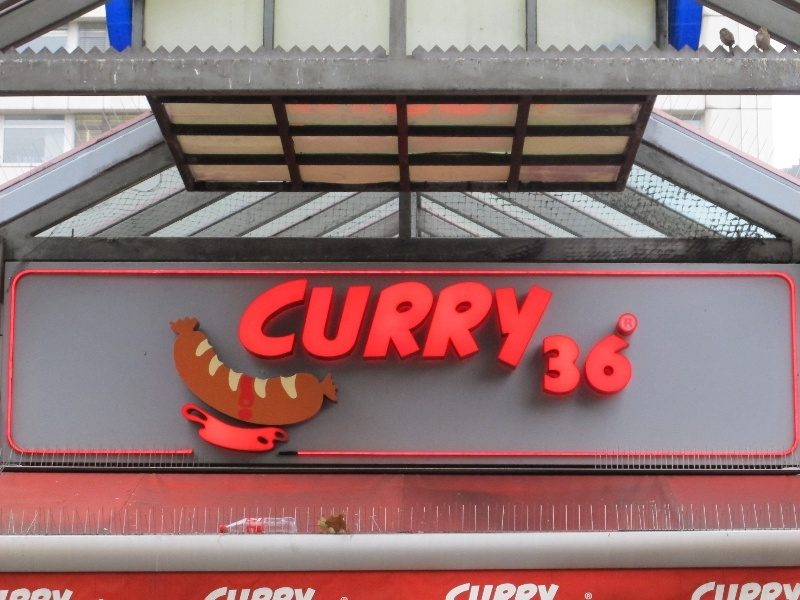text: (257, 278, 272, 370), (273, 278, 288, 370), (289, 278, 304, 370), (305, 278, 320, 370), (321, 278, 336, 370), (337, 278, 352, 370), (353, 278, 368, 370), (369, 278, 384, 370), (385, 278, 400, 370), (401, 278, 416, 370), (417, 278, 432, 370), (433, 278, 448, 370), (449, 278, 464, 370), (465, 278, 480, 370), (481, 278, 496, 370), (497, 278, 512, 370), (513, 278, 528, 370), (529, 278, 544, 370), (545, 278, 560, 370), (545, 334, 560, 395), (561, 334, 576, 395), (577, 334, 592, 395), (593, 334, 608, 395), (609, 334, 624, 395), (249, 278, 256, 370), (625, 334, 633, 395), (705, 579, 720, 600), (721, 579, 736, 600), (737, 579, 752, 600), (753, 579, 768, 600), (769, 579, 784, 600), (785, 579, 800, 600), (625, 313, 640, 333), (692, 579, 704, 600), (465, 584, 480, 600), (481, 584, 496, 600), (497, 584, 512, 600), (513, 584, 528, 600), (529, 584, 544, 600), (545, 584, 560, 600), (225, 588, 240, 600), (241, 588, 256, 600), (257, 588, 272, 600), (273, 588, 288, 600), (289, 588, 304, 600), (1, 590, 16, 600), (17, 590, 32, 600), (33, 590, 48, 600), (49, 590, 64, 600), (212, 588, 224, 600), (305, 588, 317, 600), (455, 584, 464, 600), (542, 334, 544, 395), (618, 313, 624, 333), (65, 590, 74, 600), (585, 593, 592, 600), (561, 584, 563, 600)
